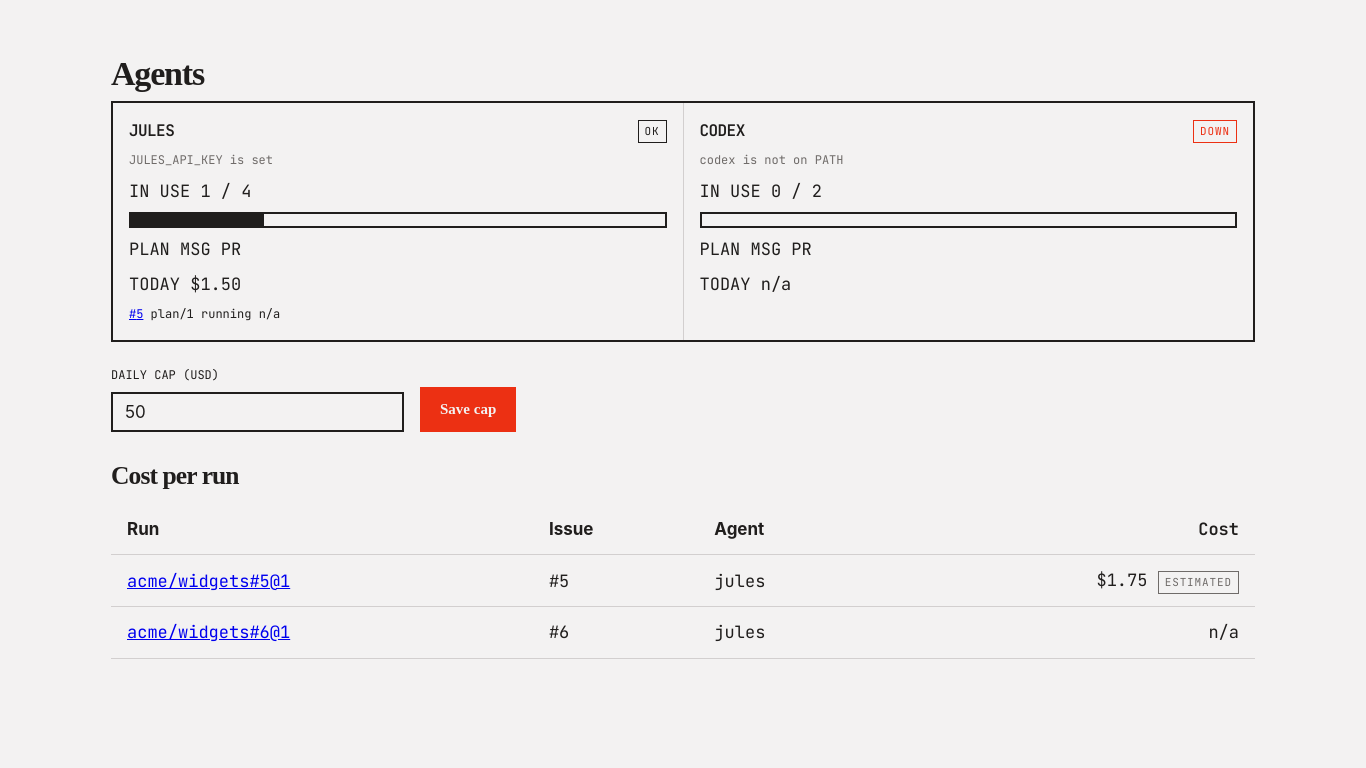
AgentsPage › shows a server error inline
Step 1. Replace the text in the field labelled "Daily cap (USD)" with "5" → (258, 412), box [111,392,404,432]
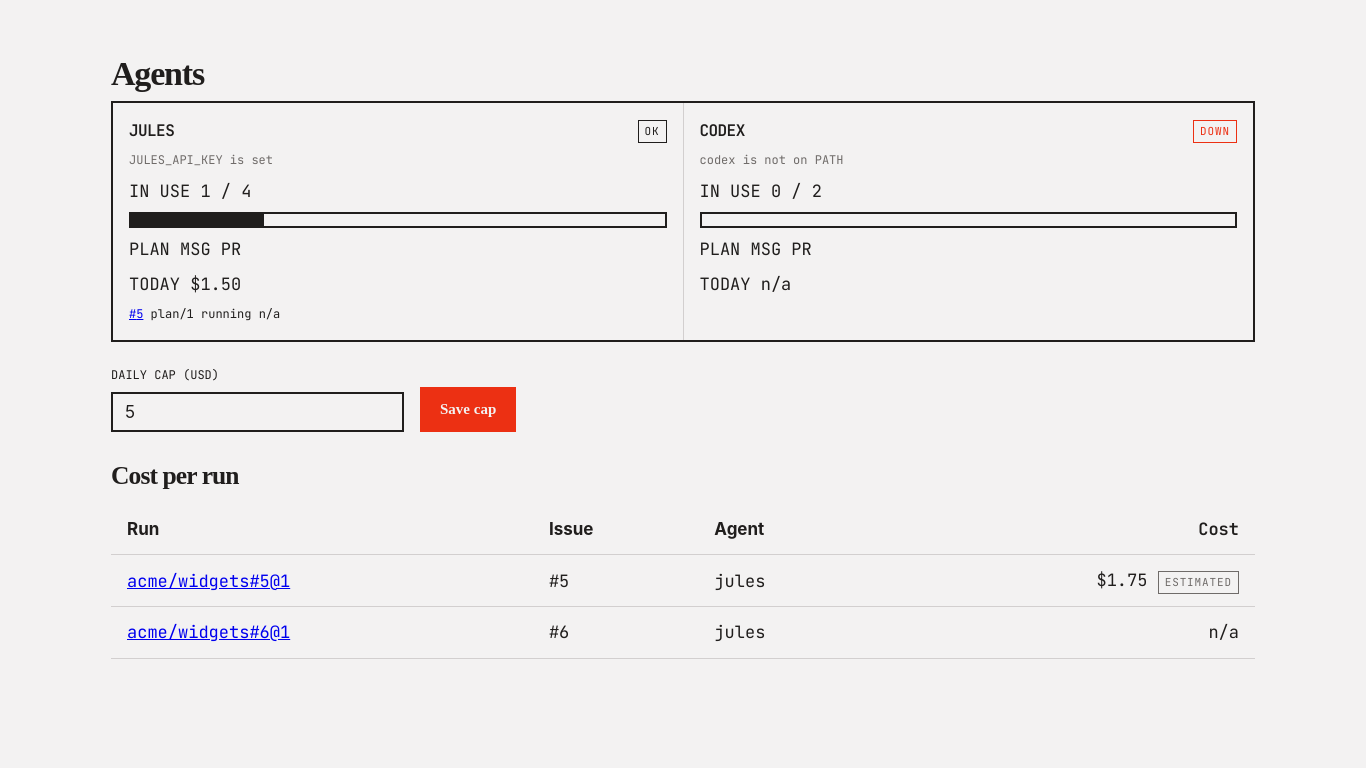
Step 2. Click the button "Save cap" → (468, 410), box [420,387,516,432]
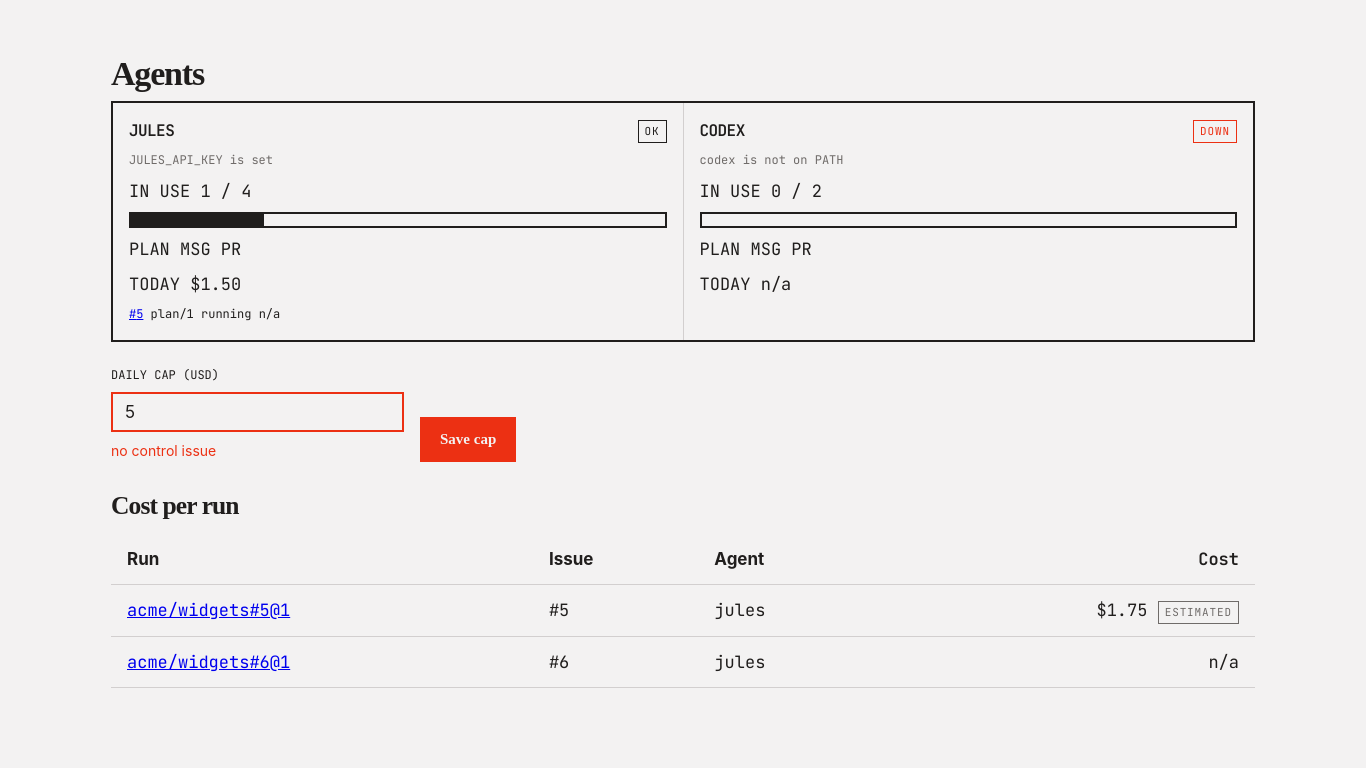
Check: the message reads "no control issue", box [111,442,216,459]
